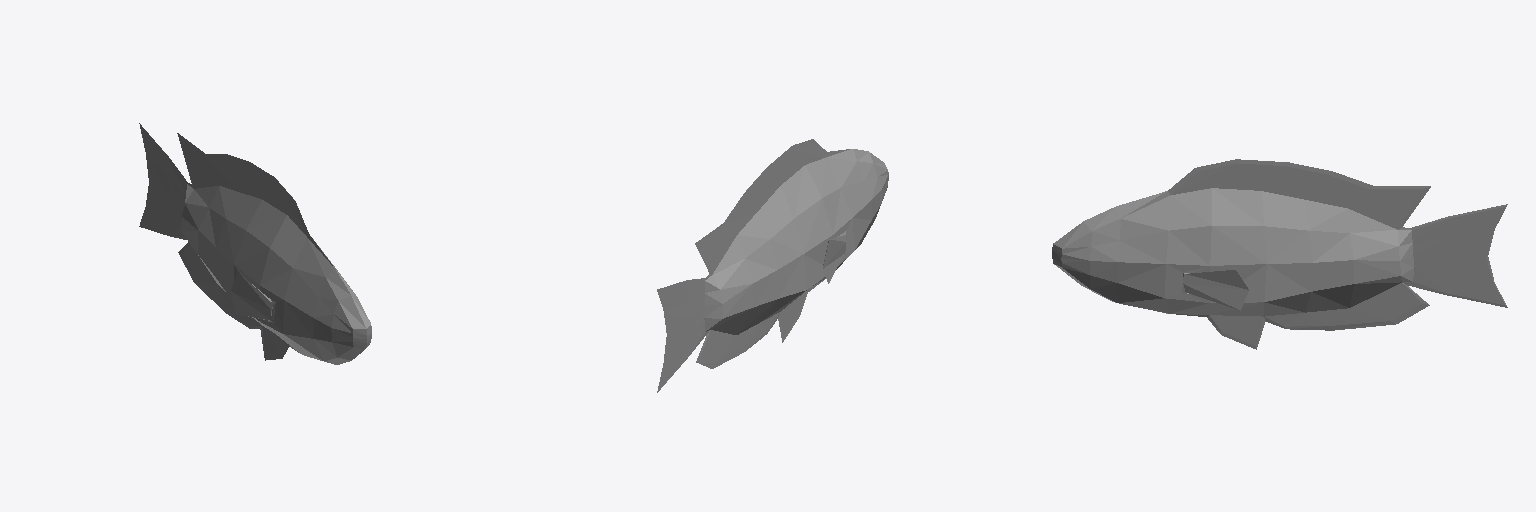
Rendered from fish.obj.
3 renders of one model, left to right at view 1: azimuth 30°, elevation 25°; view 2: azimuth 150°, elevation 25°; view 3: azimuth 270°, elevation 25°, orthographic.
Parts seen in each view (by area): view 1: Fish; view 2: Fish; view 3: Fish.
Part boxes in pixels (left/top/right/bottom): Fish: left=139, top=123, right=371, bottom=364; Fish: left=657, top=139, right=888, bottom=392; Fish: left=1052, top=159, right=1507, bottom=349.
Size of the model in its own units: 2.03 by 4.58 by 9.92.